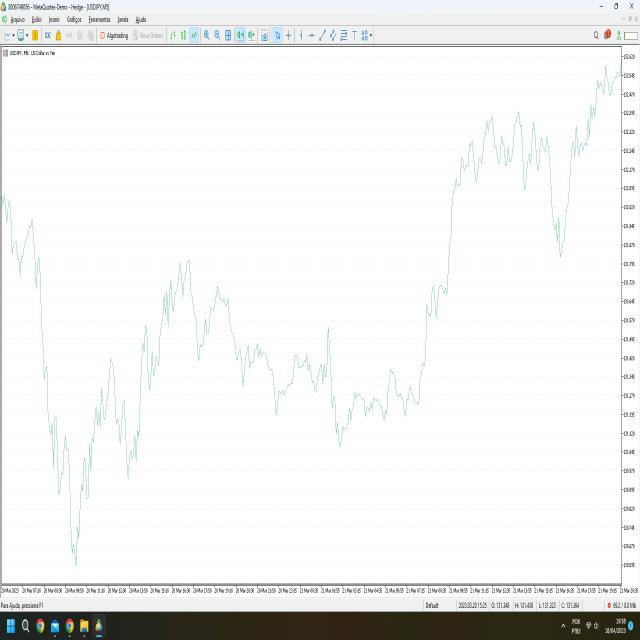bandeira_alta: (414, 252, 450, 432), (563, 119, 589, 262)
oco_inv: (52, 433, 104, 579)
